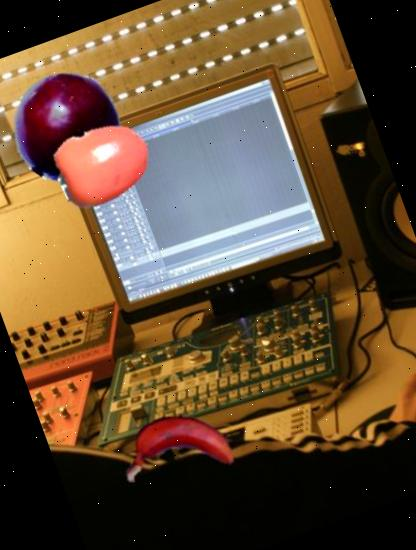Banana: (108, 375, 250, 518)
Kaki: (41, 100, 166, 226)
Plum: (0, 55, 138, 197)
